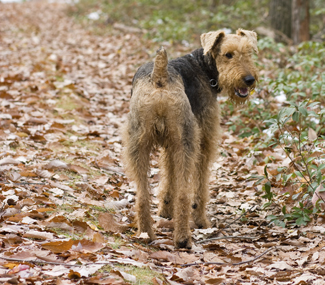dog: (118, 30, 259, 246)
